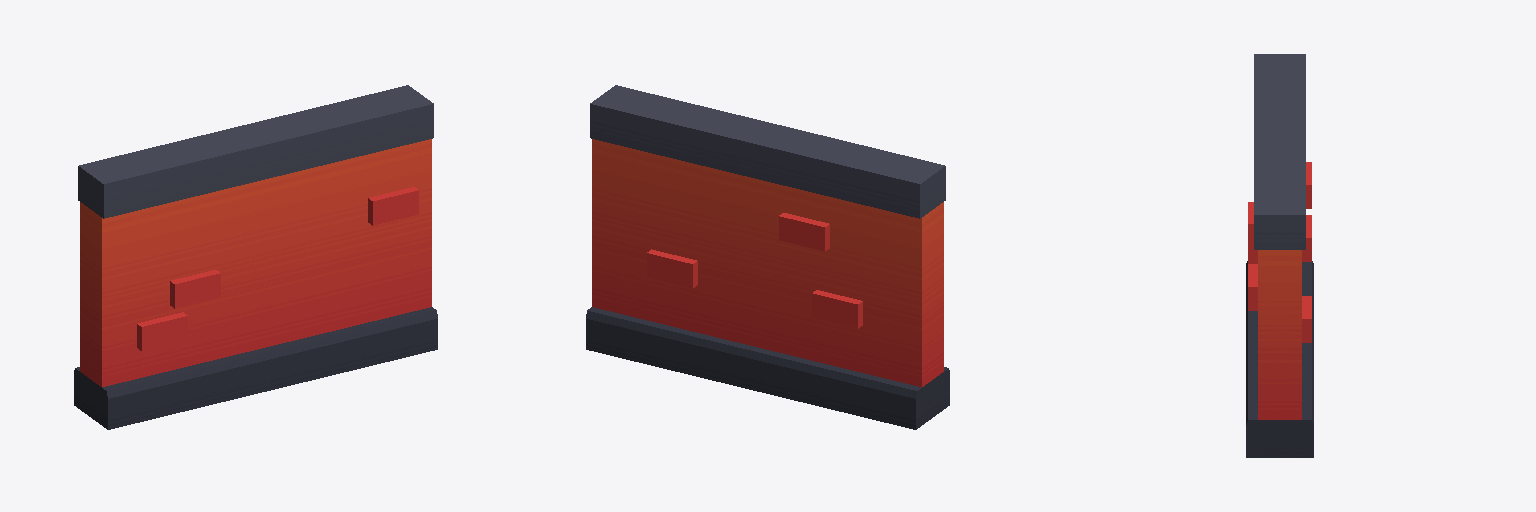
3 views of the same model, side by side, from view 1: azimuth 30°, elevation 25°; view 2: azimuth 150°, elevation 25°; view 3: azimuth 270°, elevation 25° (orthographic).
Parts seen in each view (by area): view 1: brick-wall.011; view 2: brick-wall.011; view 3: brick-wall.011.
Boxes of the visible parts, box(x1,y1,x2,y2) form: brick-wall.011: box(74, 85, 437, 429); brick-wall.011: box(586, 85, 949, 429); brick-wall.011: box(1246, 54, 1313, 457).
Size of the model in its own units: 2.45 by 1.72 by 0.441.
Materials: 1 (1 with a texture image).